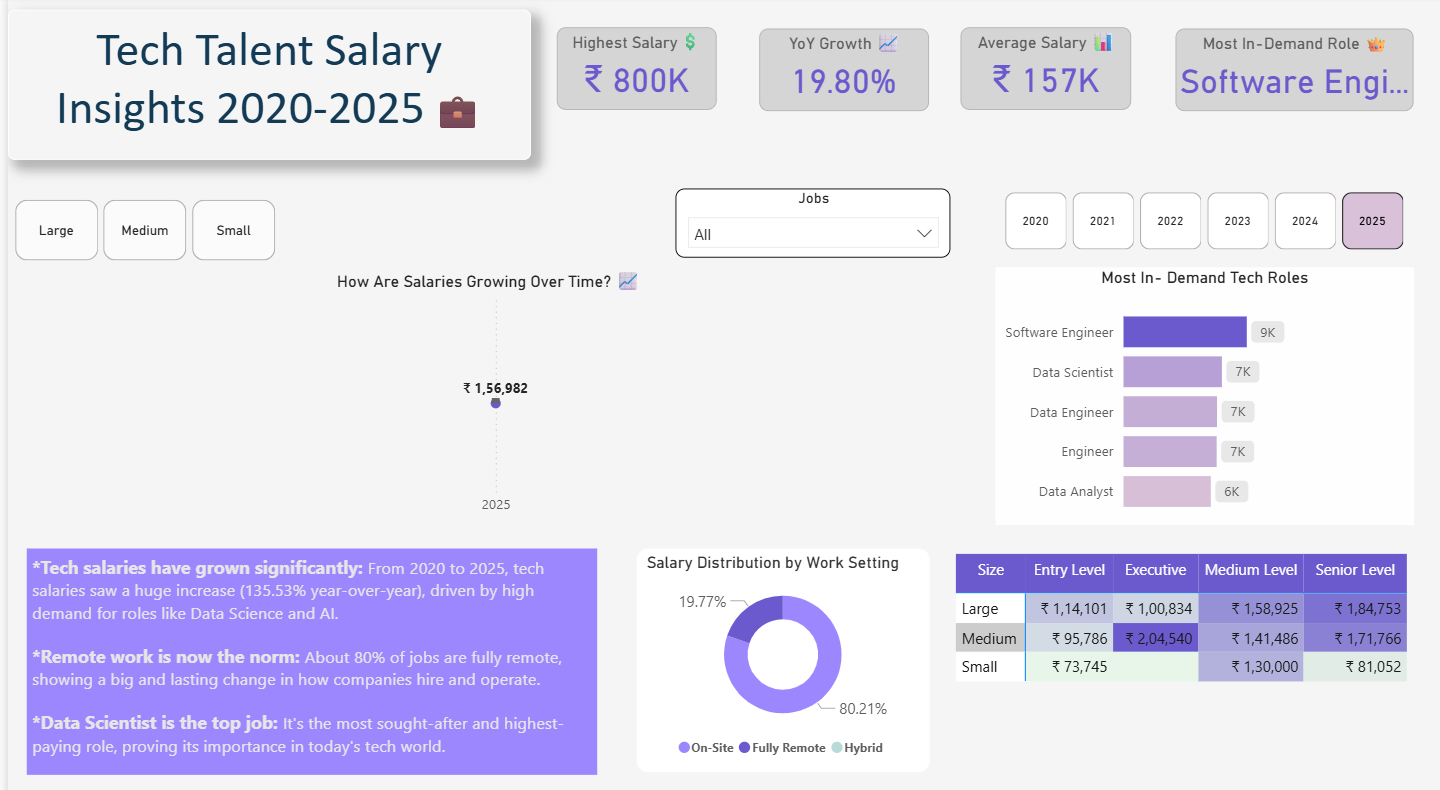

The dashboard page shown, as its layout file describes it:
{"tool":"powerbi","page":{"name":"Dashboard","canvas":[1280,720],"ordinal":0},"visuals":[{"type":"card","title":"Highest Salary💲","fields":{"Values":["salaries.Highest Salary"]},"box":[488.6,27.7,142.4,73.6],"z":0},{"type":"card","title":"Average Salary 📊","fields":{"Values":["salaries.Average salary"]},"box":[848.1,27.7,152,73.6],"z":1000},{"type":"card","title":"YoY Growth 📈","fields":{"Values":["salaries.Salary YoY Growth %"]},"box":[669.6,29,150.8,73.6],"z":2000},{"type":"card","title":"Most In-Demand Role 👑","fields":{"Values":["salaries.MostPopularRole"]},"box":[1040,29,212.3,73.6],"z":3000},{"type":"pivotTable","fields":{"Rows":["salaries.Size"],"Columns":["salaries.Experience"],"Values":["salaries.Average salary"]},"box":[839.7,492.2,418.6,158],"z":4000},{"type":"lineChart","title":"How Are Salaries Growing Over Time? 📈","fields":{"Category":["salaries.work_year"],"Y":["salaries.Average salary"]},"box":[16.9,241.3,822.8,229.2],"z":5000},{"type":"donutChart","title":"Salary Distribution by Work Setting","fields":{"Category":["salaries.JobType"],"Y":["salaries.Total Salary"]},"box":[559.8,492.2,260.6,199.1],"z":6000},{"type":"barChart","title":"Most In- Demand Tech Roles","fields":{"Category":["salaries.job_title"],"Y":["salaries.Job counts"]},"box":[879.5,241.3,372.8,229.2],"z":7000},{"type":"textbox","box":[0,12.1,465.7,133.9],"z":8000},{"type":"textbox","box":[16.9,492.2,507.9,201.5],"z":9000},{"type":"advancedSlicerVisual","title":"🗓️","fields":{"Values":["salaries.work_year"]},"box":[881.6,174.8,369.6,57.9],"z":10000},{"type":"slicer","title":"Jobs","fields":{"Values":["salaries.job_title"]},"box":[594.8,171.3,244.9,61.5],"z":11000},{"type":"advancedSlicerVisual","title":"Company 🏢","fields":{"Values":["salaries.Size"]},"box":[0,181,244.9,60.3],"z":12000}]}

Visuals, with their boxes in screenshot pixels (x1, y1, x2, y2), scaled from the page's 1280x720 canvas onto the 1440x790 screenshot:
"Highest Salary💲" card: (550, 30, 710, 111)
"Average Salary 📊" card: (954, 30, 1125, 111)
"YoY Growth 📈" card: (753, 32, 923, 113)
"Most In-Demand Role 👑" card: (1170, 32, 1409, 113)
pivotTable - salaries.Size x salaries.Experience: (945, 540, 1416, 713)
"How Are Salaries Growing Over Time? 📈" lineChart: (19, 265, 945, 516)
"Salary Distribution by Work Setting" donutChart: (630, 540, 923, 759)
"Most In- Demand Tech Roles" barChart: (989, 265, 1409, 516)
textbox: (0, 13, 524, 160)
textbox: (19, 540, 590, 761)
"🗓️" advancedSlicerVisual: (992, 192, 1408, 255)
"Jobs" slicer: (669, 188, 945, 255)
"Company 🏢" advancedSlicerVisual: (0, 199, 276, 265)
